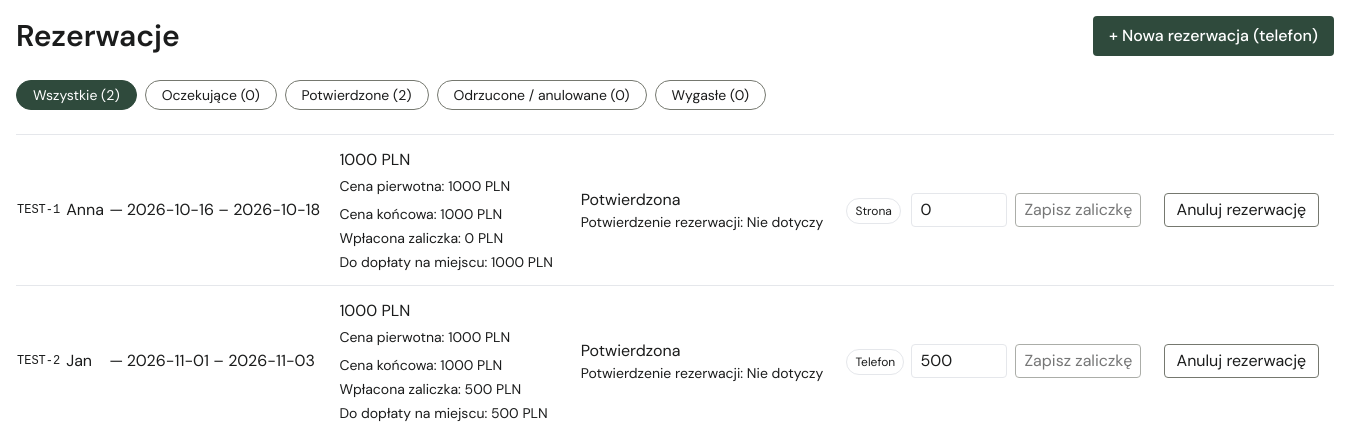
Test: admin deposit feedback › waits for the server before acknowledging and prevents duplicate saves
Check: the text "Anna" is shown, box [65,134,108,286]
Replace the text in the field named "Zaliczka Anna" with "200". click: (960, 210)
box: [912,193,1008,227]
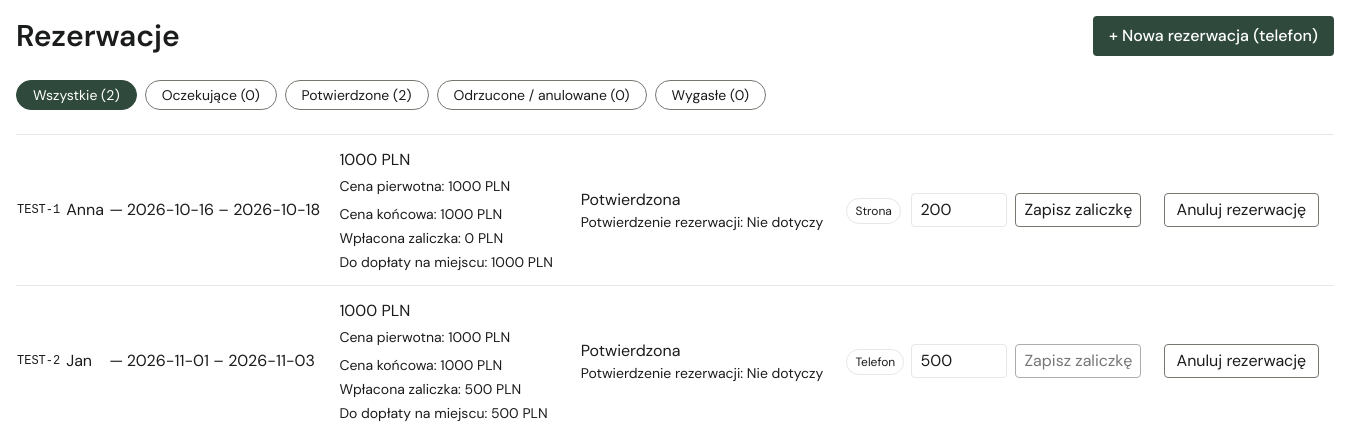
Click the button "Zapisz zaliczkę" in the row of "TEST-1". click: click(1078, 210)
box: [1016,193,1141,227]
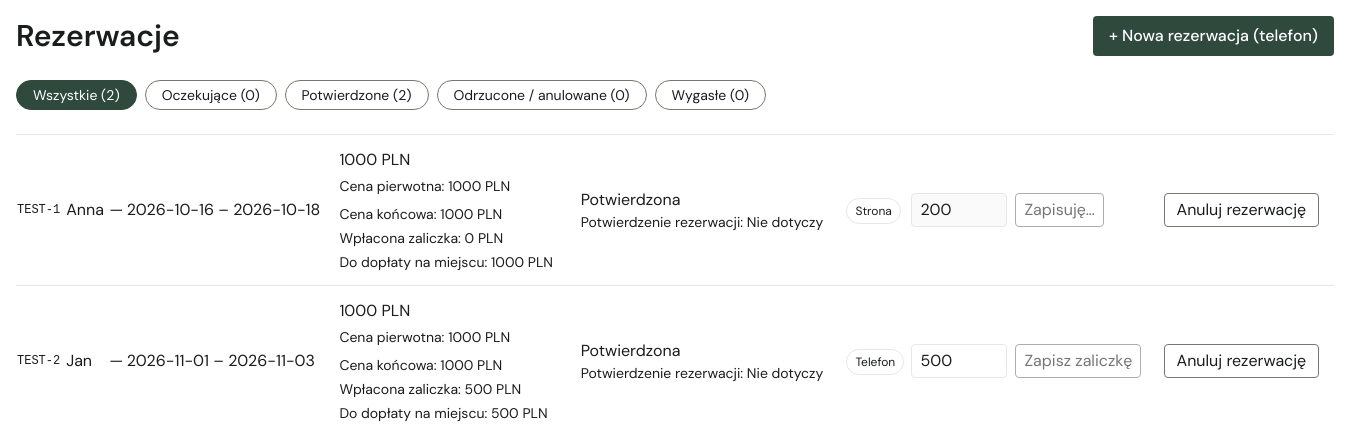
Check: the field named "Zaliczka Anna" is disabled, box [912,193,1008,227]
Check: the button "Zapisuję…" is disabled
Click the button "Zapisuję…". click: click(1060, 210)
box: [1016,193,1104,227]
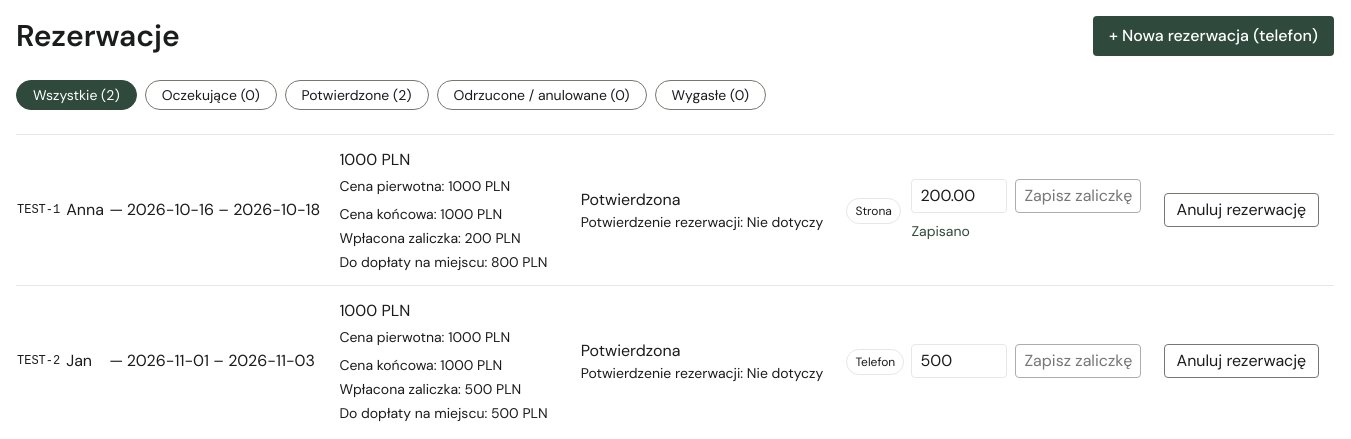
Check: the message reads "Zapisano", box [912,222,970,240]
Check: the field named "Zaliczka Anna" holds "200.00", box [912,179,1008,213]
Check: the field named "Zaliczka Anna" is enabled, box [912,179,1008,213]
